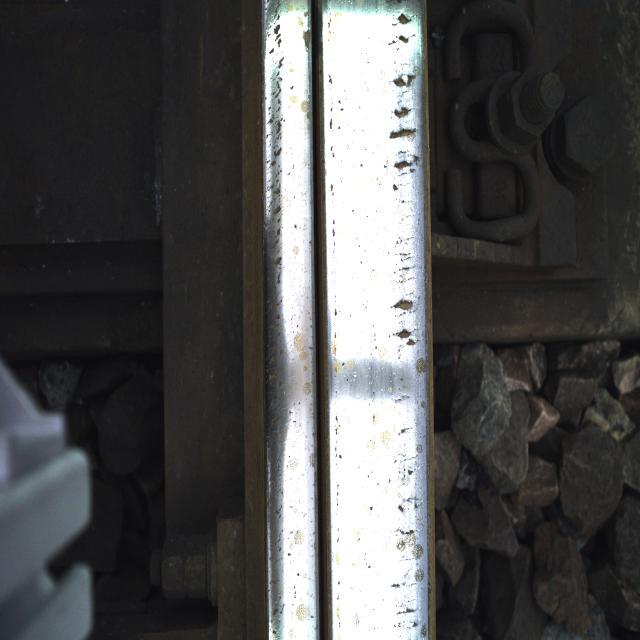scar: (366, 0, 430, 370)
